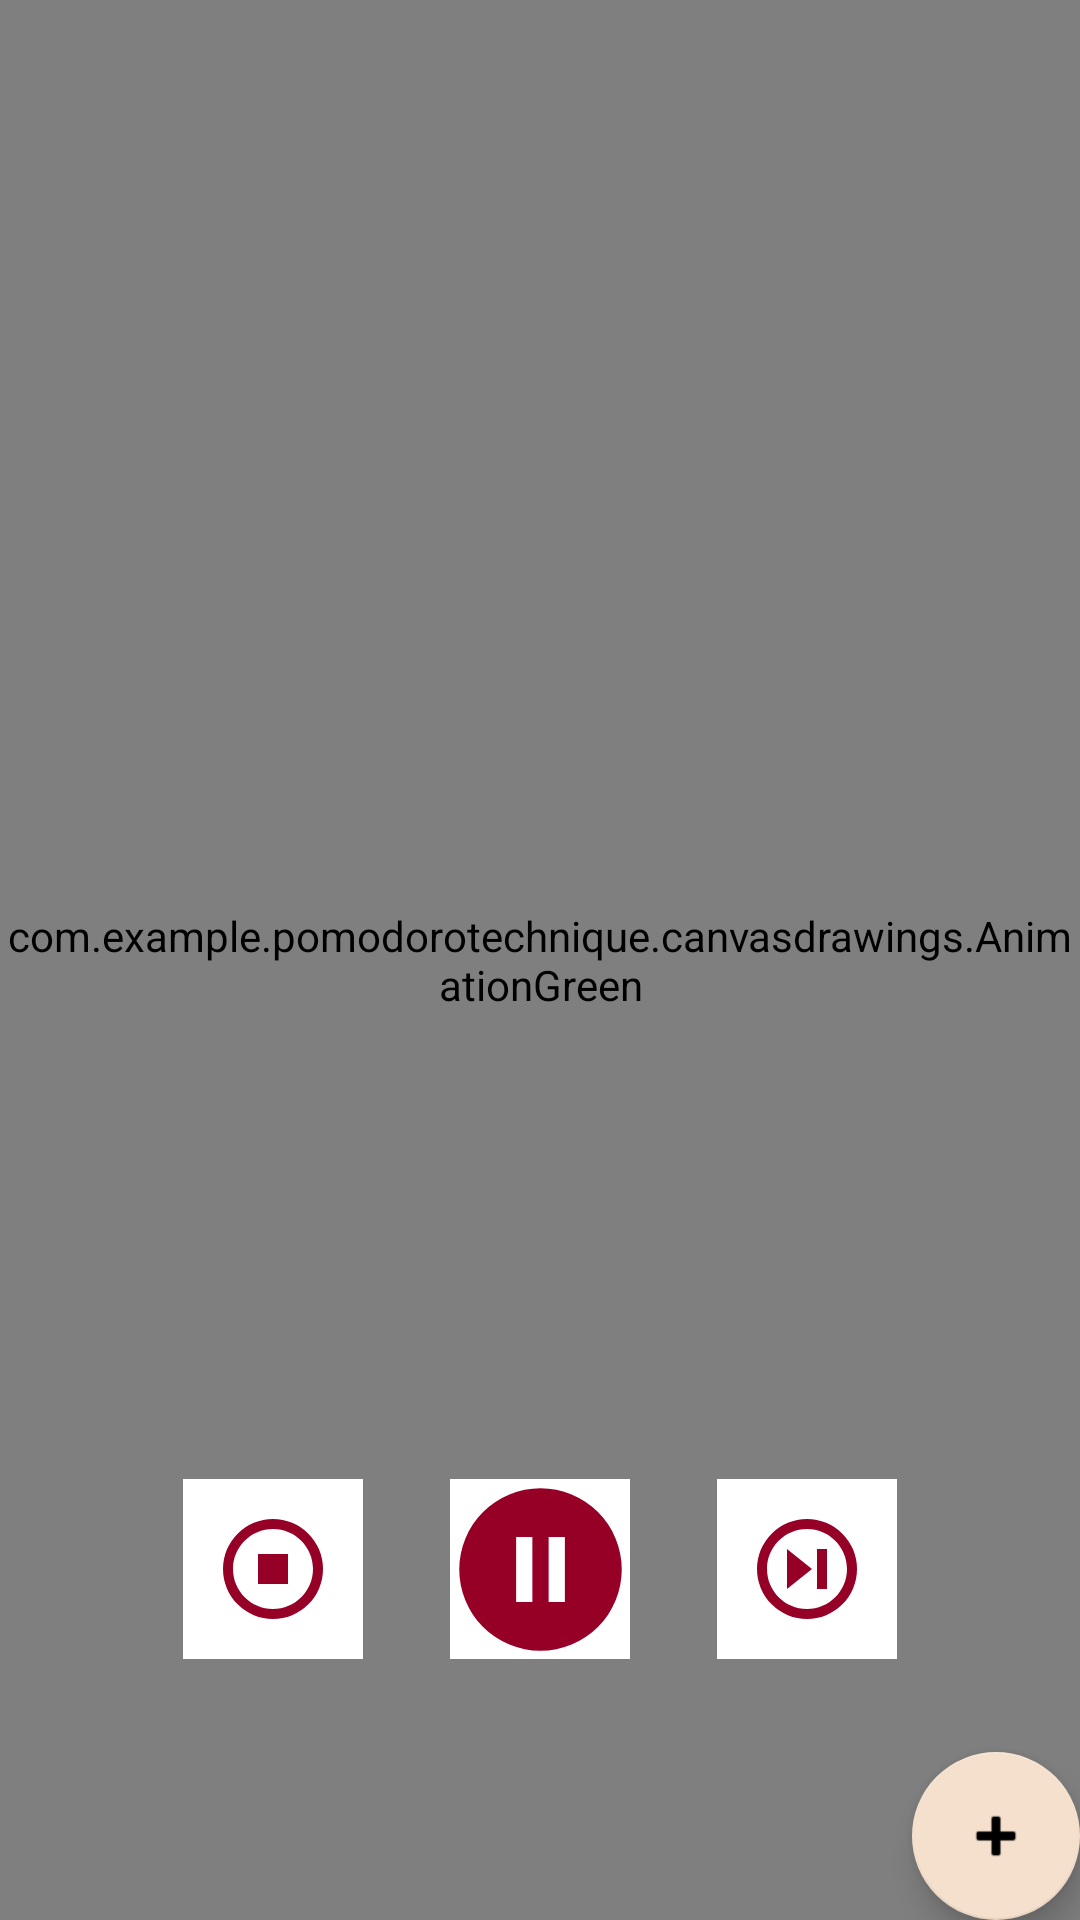

Screen size 1080×1920. Icon name, then its center in pixels as (x,y):
add: (996,1836)
Button Next: (807,1569)
Button Stop: (273,1569)
pause circle: (540,1569)
